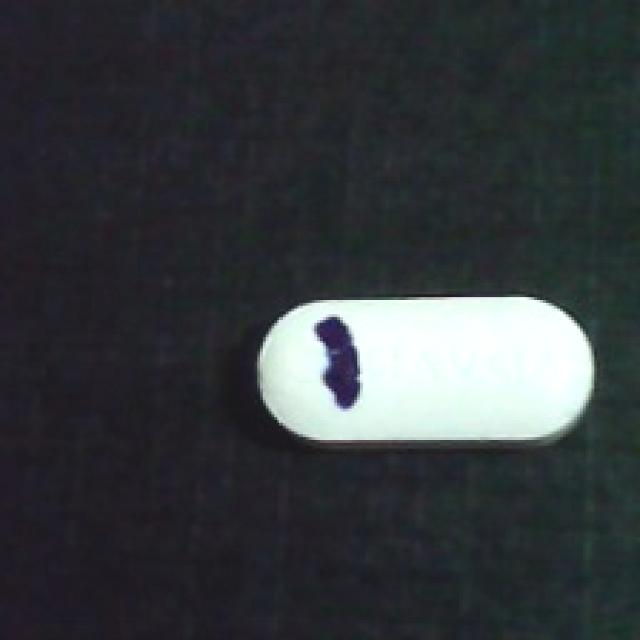defected: (246, 294, 606, 454)
